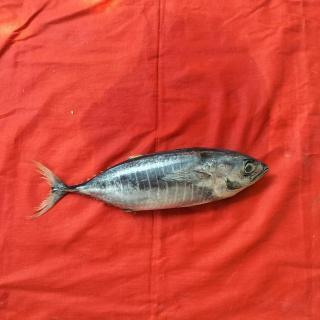Ikan: (26, 138, 290, 231)
